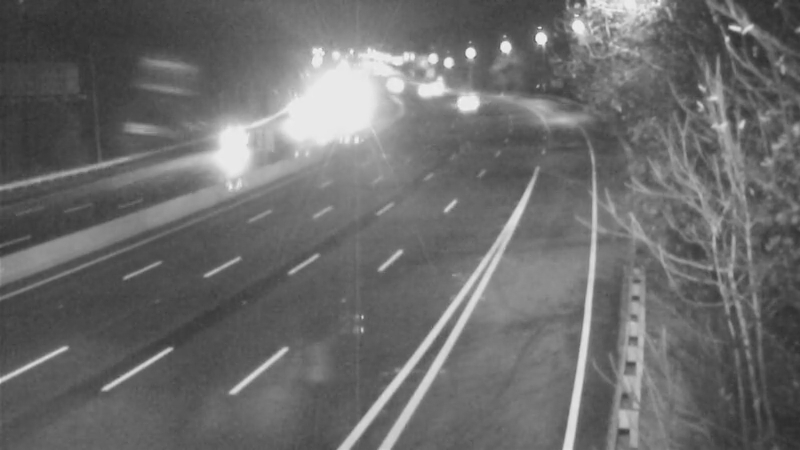vehicle: (402, 60, 452, 110), (445, 80, 495, 130), (205, 117, 255, 167)
